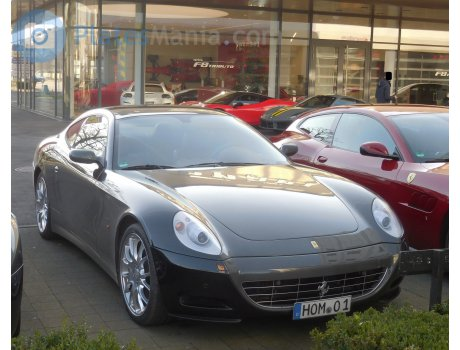License Plates: (301, 300, 347, 312)
